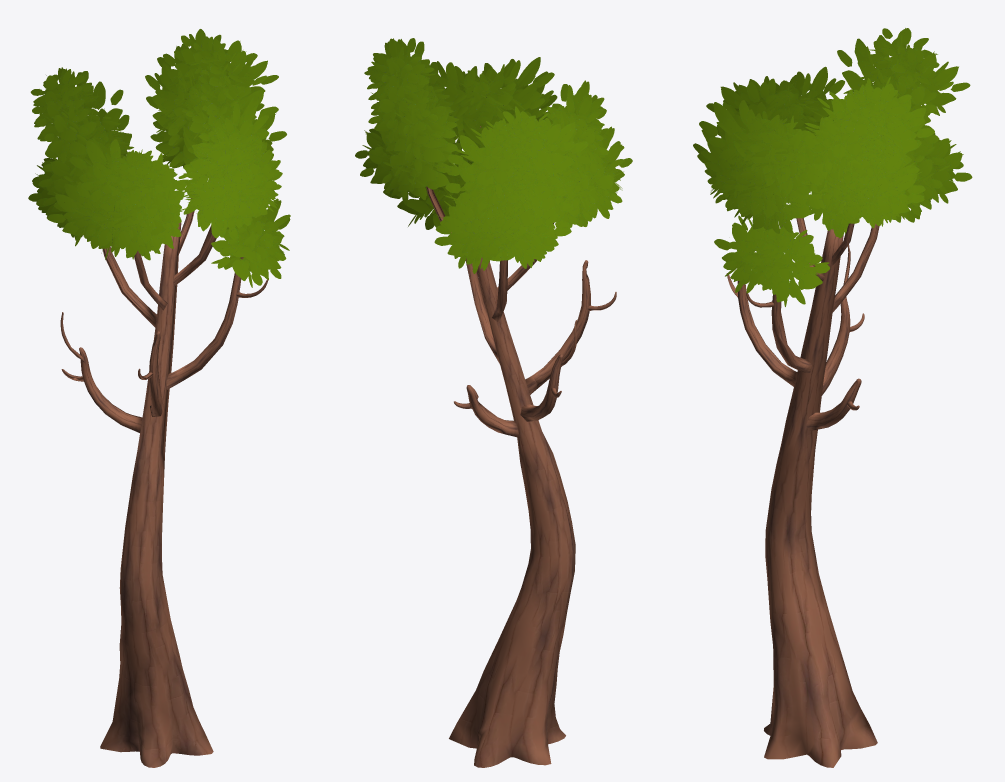
The model's file is commontree_4.glb.
3 renders of one model, left to right at view 1: azimuth 30°, elevation 25°; view 2: azimuth 150°, elevation 25°; view 3: azimuth 270°, elevation 25°, orthographic. The views are drawn at different scales.
Parts seen in each view (by area): view 1: CommonTree_4; view 2: CommonTree_4; view 3: CommonTree_4.
Boxes of the visible parts, x1,y1,x2,y2 form: CommonTree_4: (28,29,290,767); CommonTree_4: (355,38,632,767); CommonTree_4: (693,28,972,767).
Size of the model in its own units: 3.83 by 9.44 by 3.76.
2 materials, 2 textured.
